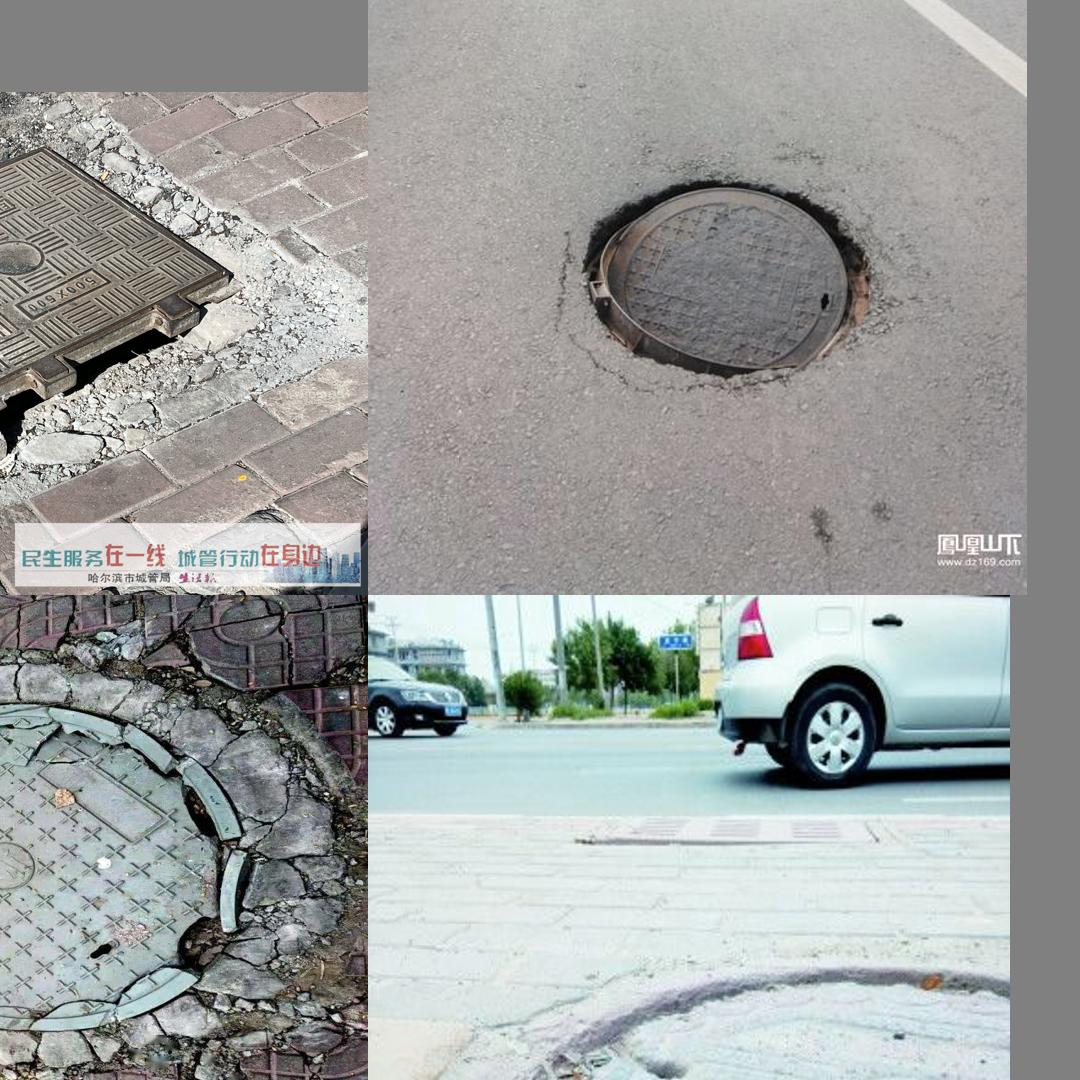circle: (0, 651, 332, 1062), (0, 143, 327, 493), (535, 162, 904, 396), (404, 937, 998, 1080)
